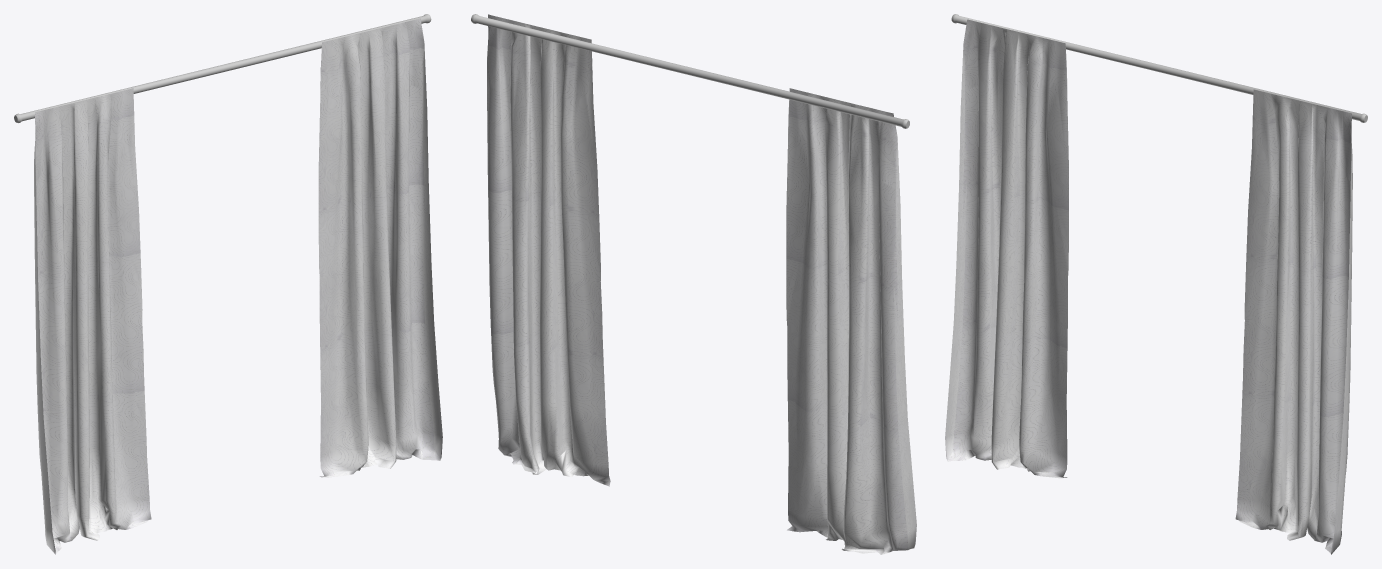
The model's file is Curtains.fbx.
The picture shows the model from 3 angles, left to right: view 1: azimuth 30°, elevation 25°; view 2: azimuth 150°, elevation 25°; view 3: azimuth 330°, elevation 25°; orthographic projection. The views are drawn at different scales.
Parts seen in each view (by area): view 1: Curtain 1, Curtain 2, Curtain bar; view 2: Curtain 2, Curtain 1, Curtain bar; view 3: Curtain 2, Curtain 1, Curtain bar.
Part boxes in pixels (<box>): Curtain 1: <box>318,18,442,477</box>; Curtain 2: <box>34,88,151,554</box>; Curtain bar: <box>14,14,431,123</box>; Curtain 2: <box>786,88,916,554</box>; Curtain 1: <box>487,14,610,486</box>; Curtain bar: <box>471,14,909,128</box>; Curtain 2: <box>945,19,1068,478</box>; Curtain 1: <box>1235,89,1352,554</box>; Curtain bar: <box>951,14,1367,122</box>.
Bounding box in the file's own units: 256 × 254 × 29.62.
